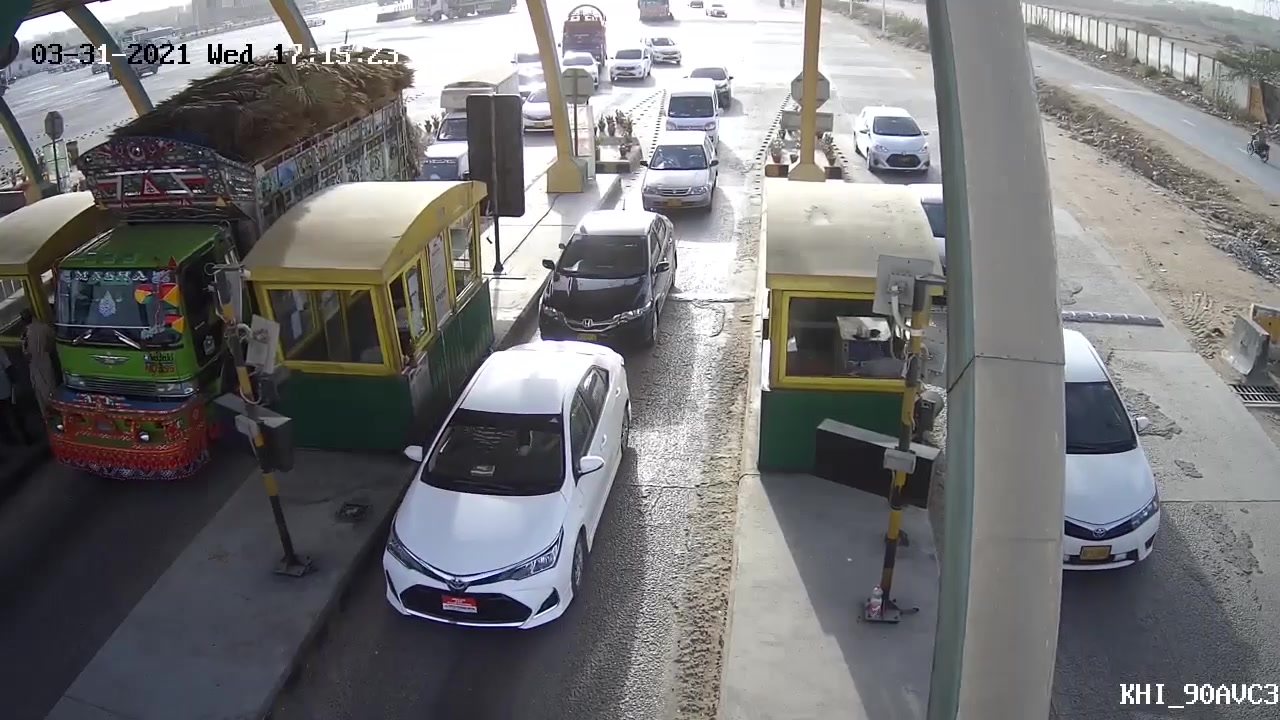F1: (376, 339, 631, 646), (540, 205, 677, 343), (632, 128, 716, 212)
